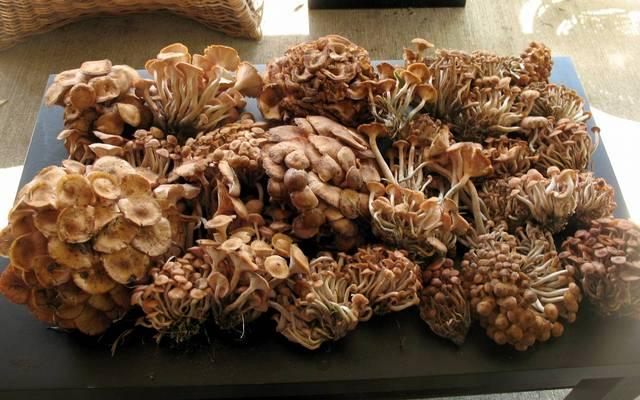edible_mushroom: (0, 34, 639, 352)
